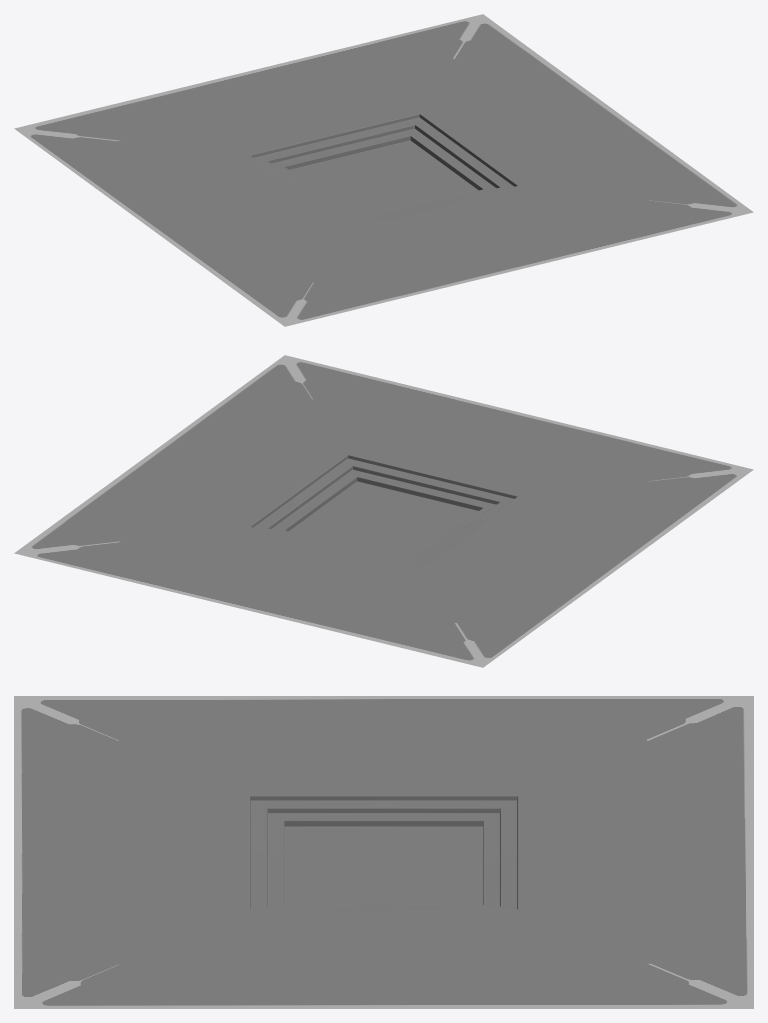
File: Stage_Ringfloor.fbx
3 renders of one model, top to bottom at view 1: azimuth 30°, elevation 25°; view 2: azimuth 150°, elevation 25°; view 3: azimuth 270°, elevation 25°, orthographic. The views are drawn at different scales.
Parts seen in each view (by area): view 1: Stage_Ringfloor; view 2: Stage_Ringfloor; view 3: Stage_Ringfloor.
Part boxes in pixels (x1=…): Stage_Ringfloor: x1=14, y1=14, x2=753, y2=326; Stage_Ringfloor: x1=14, y1=355, x2=753, y2=667; Stage_Ringfloor: x1=14, y1=696, x2=753, y2=1008.
Bounding box in the file's own units: 4708 × 115 × 4708.
Materials: 1 (1 with a texture image).
